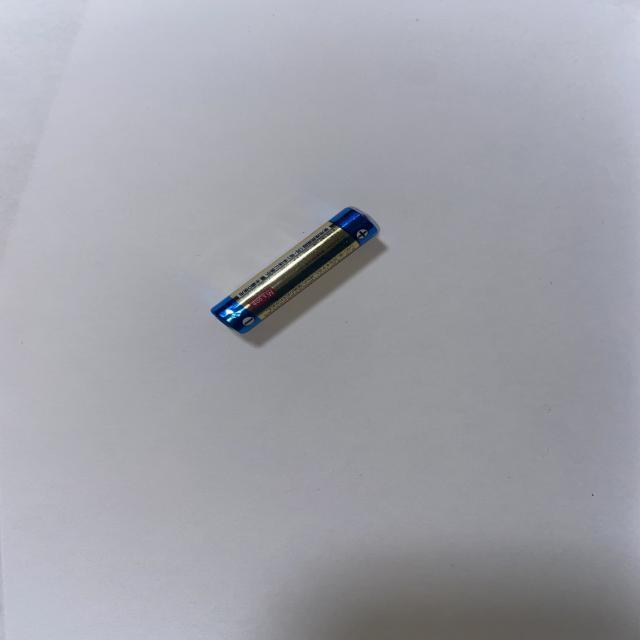Hazard: (206, 202, 382, 336)
